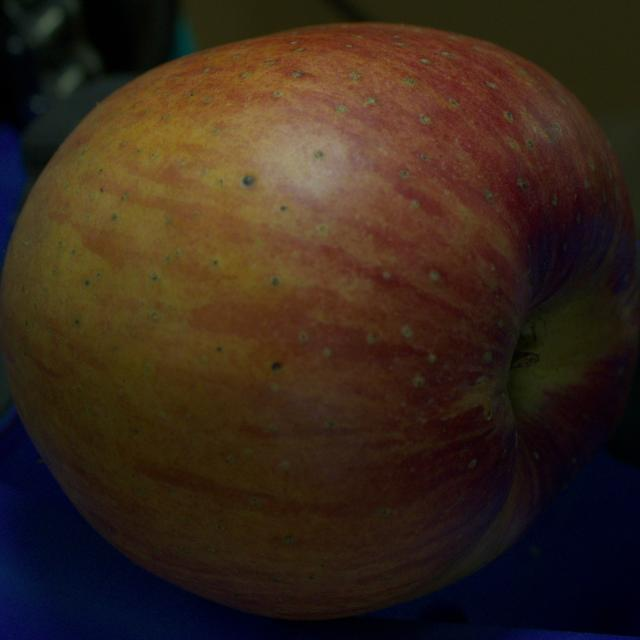apple: (0, 24, 639, 618)
pest: (242, 174, 255, 186), (271, 276, 280, 286), (272, 362, 281, 370), (314, 150, 323, 156)
